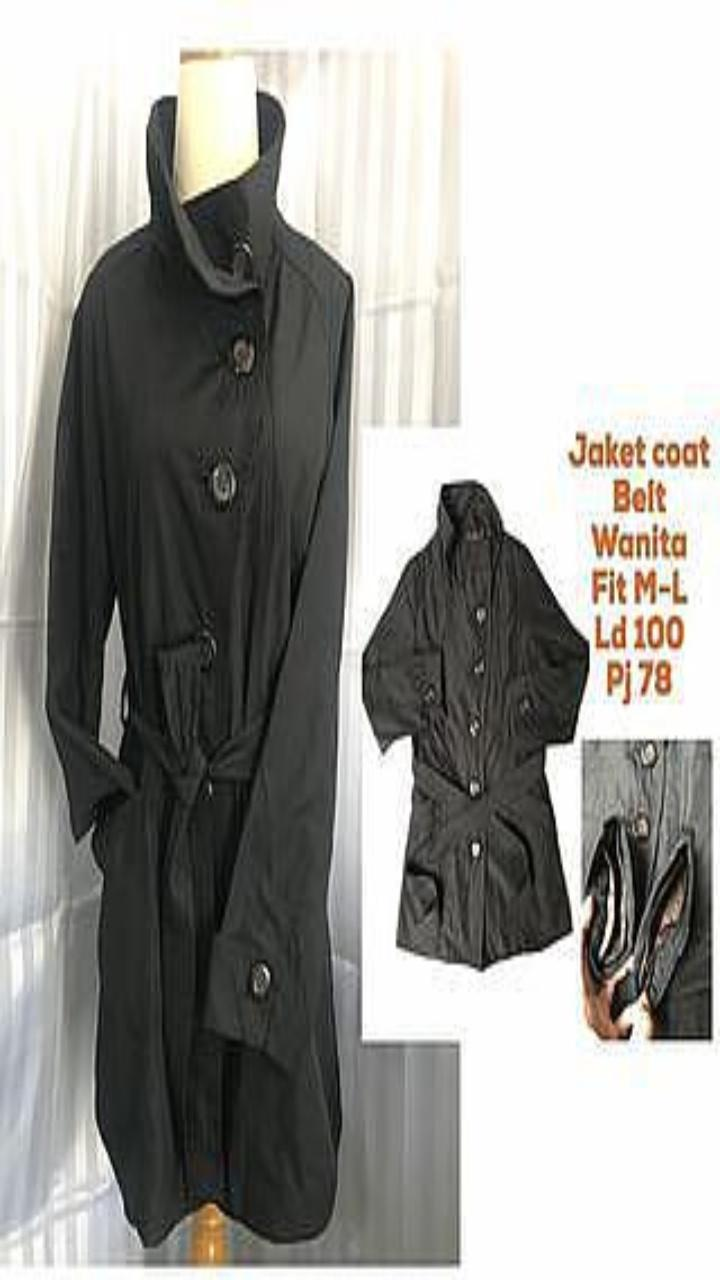Coat: (46, 93, 353, 1244), (363, 480, 588, 968), (583, 739, 711, 1038)
